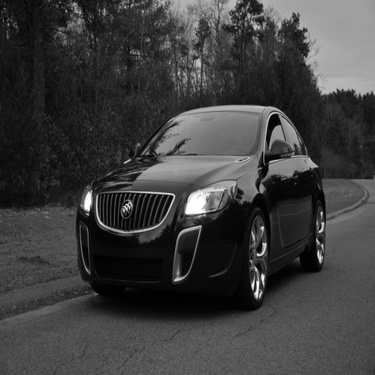car: (61, 97, 331, 312)
